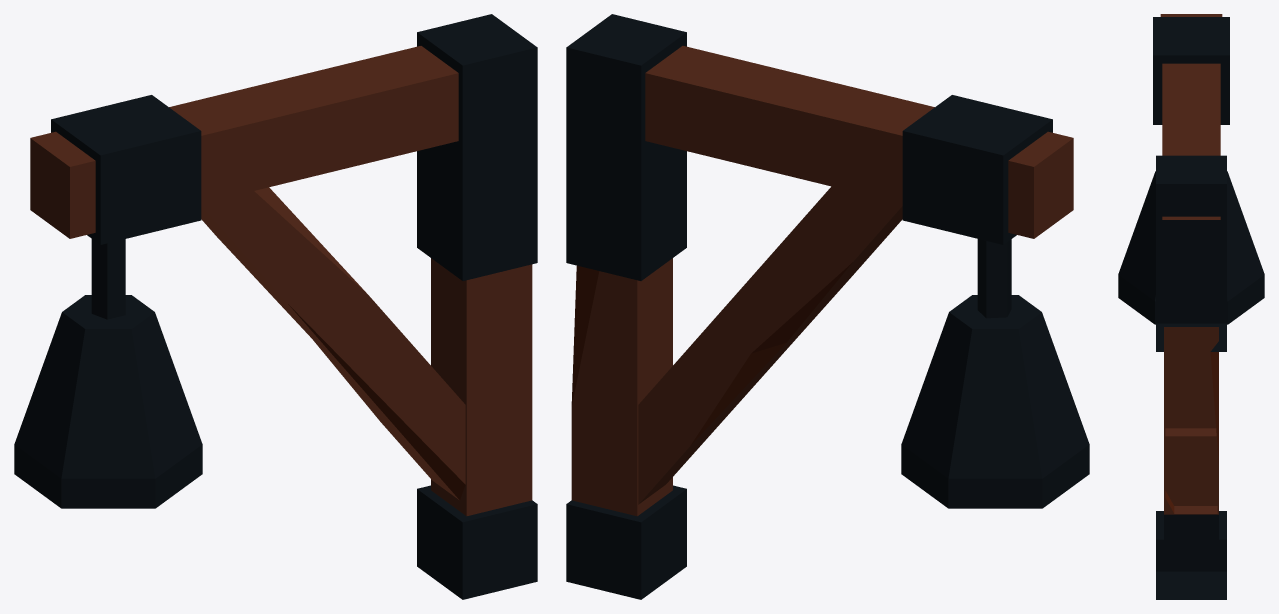
File: Lamp_2.fbx
3 views of the same model, side by side, from view 1: azimuth 30°, elevation 25°; view 2: azimuth 150°, elevation 25°; view 3: azimuth 270°, elevation 25° (orthographic). The views are drawn at different scales.
Visible parts, largest first — view 1: Lamp_2; view 2: Lamp_2; view 3: Lamp_2.
Boxes of the visible parts, box(x1,y1,x2,y2) form: Lamp_2: box(14, 14, 537, 599); Lamp_2: box(566, 14, 1089, 599); Lamp_2: box(1118, 14, 1264, 599).
Size of the model in its own units: 43.29 by 46.38 by 14.8.
